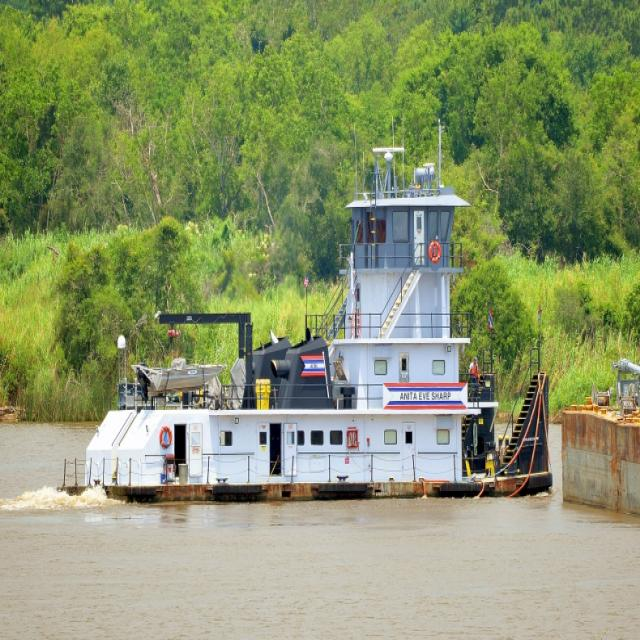tugboat: (55, 140, 559, 515)
